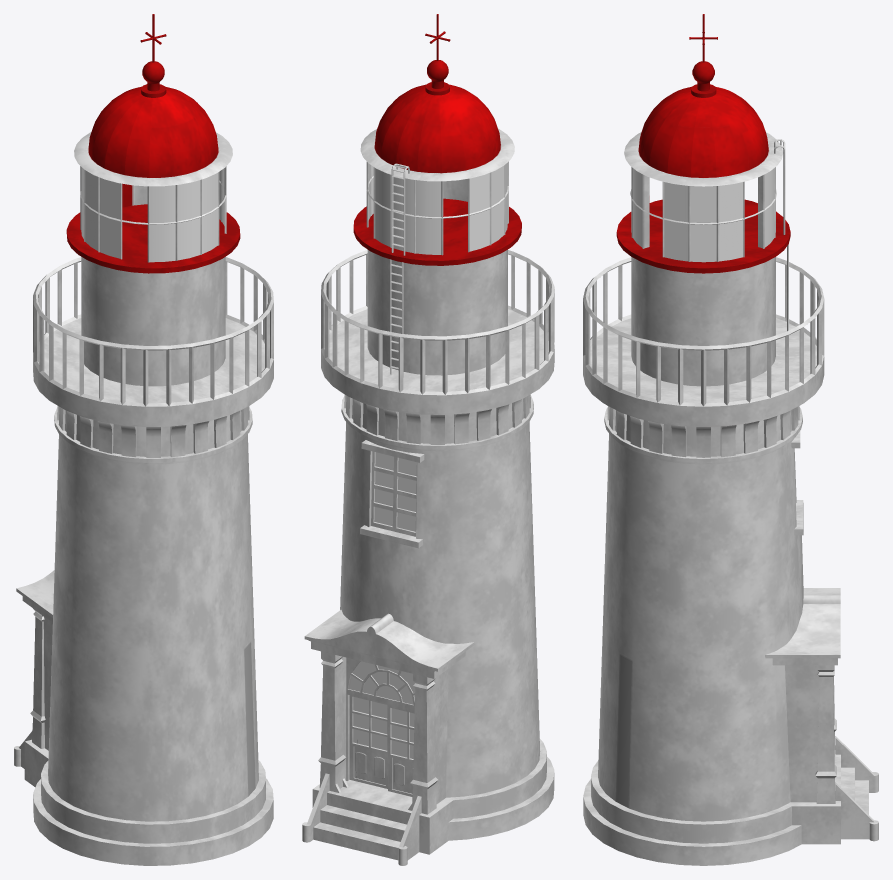
File: lighthouse.glb
3 renders of one model, left to right at view 1: azimuth 30°, elevation 25°; view 2: azimuth 150°, elevation 25°; view 3: azimuth 270°, elevation 25°, orthographic. The views are drawn at different scales.
Size of the model in its own units: 2.52 by 9.22 by 3.09.
Materials: 1 (1 with a texture image).
